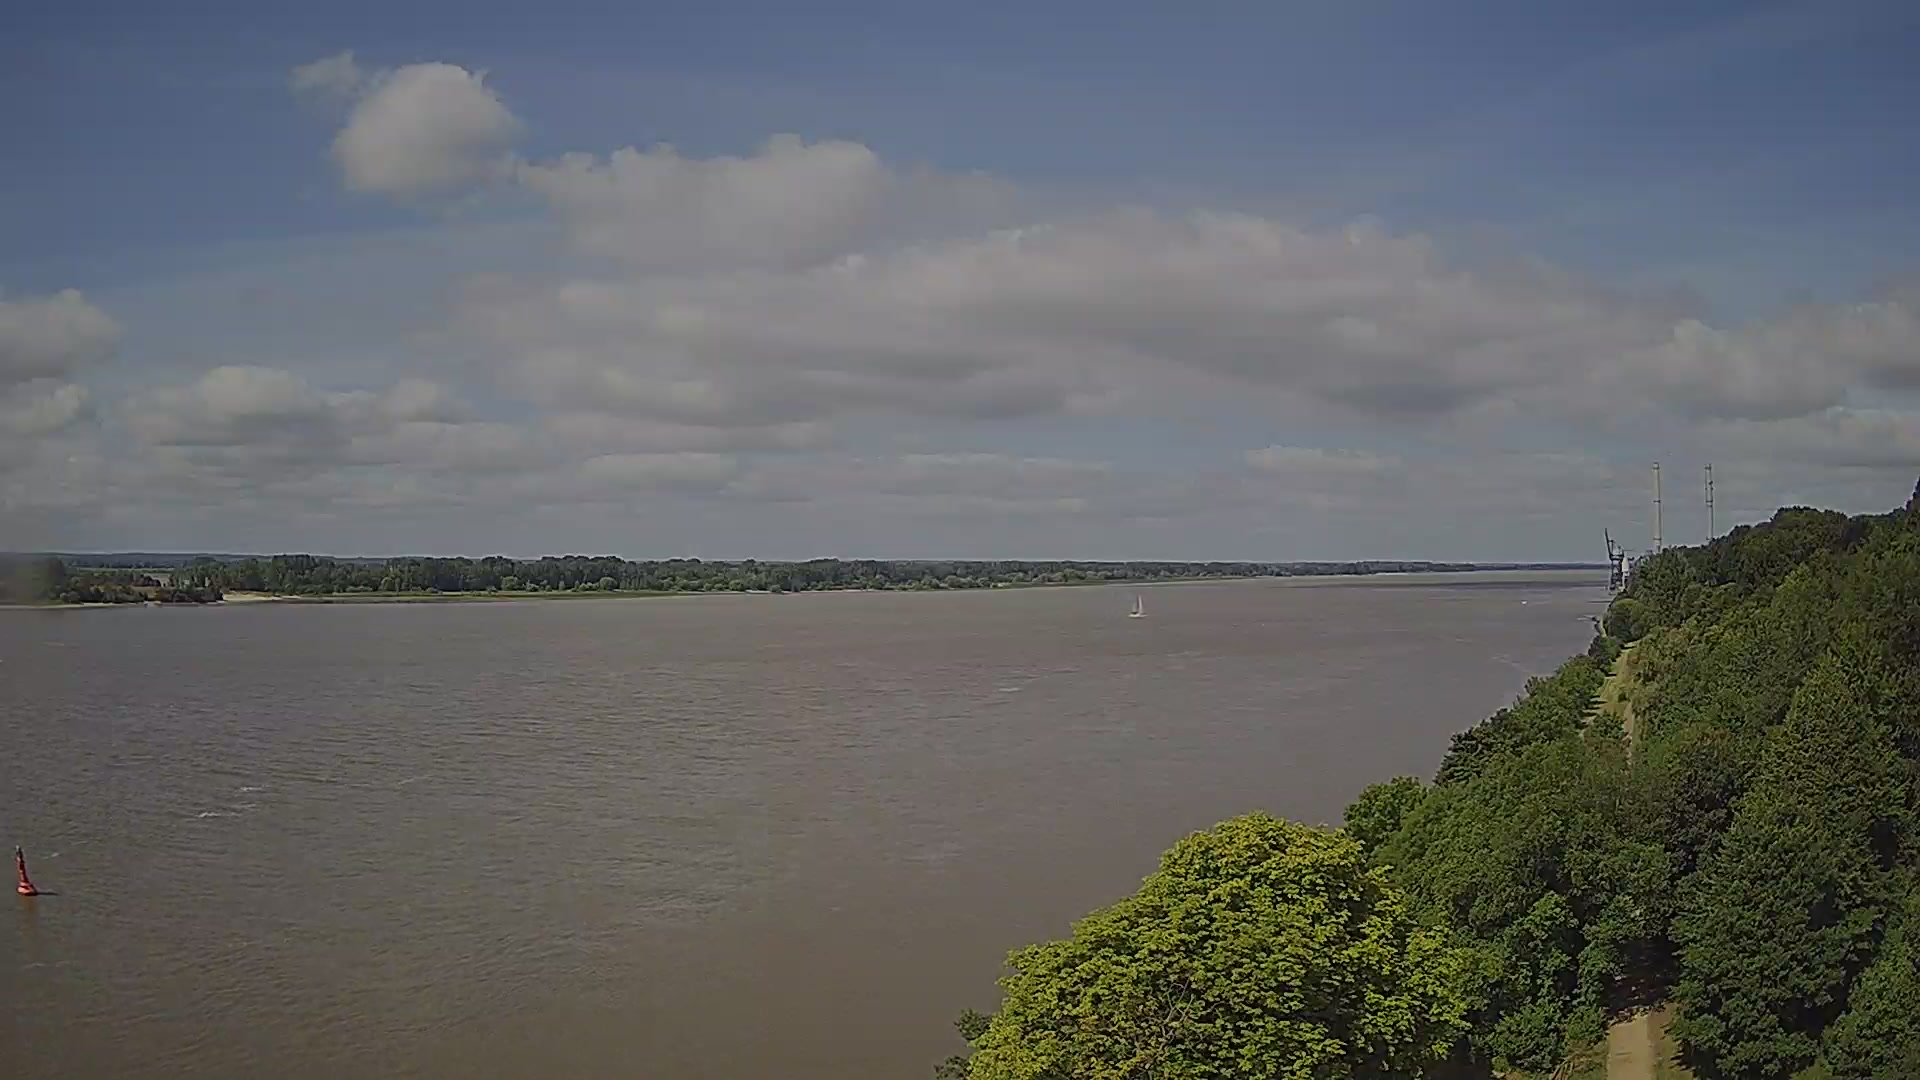sea: (1127, 592, 1146, 617)
